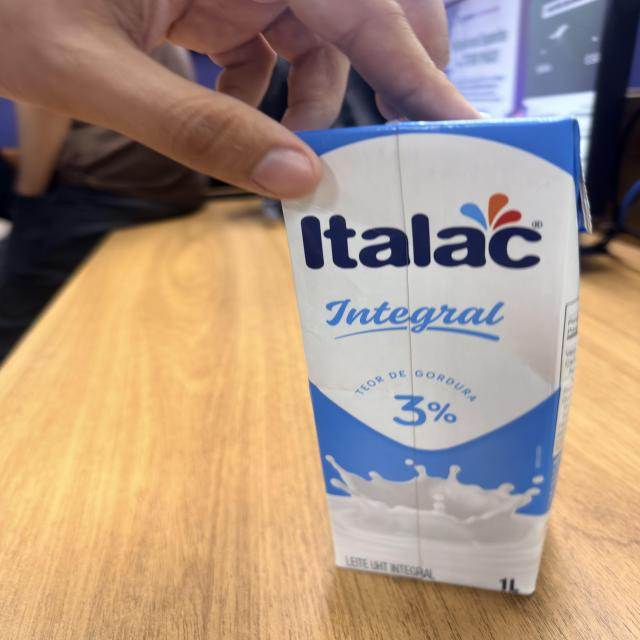Caixa de Leite: (278, 116, 582, 594)
